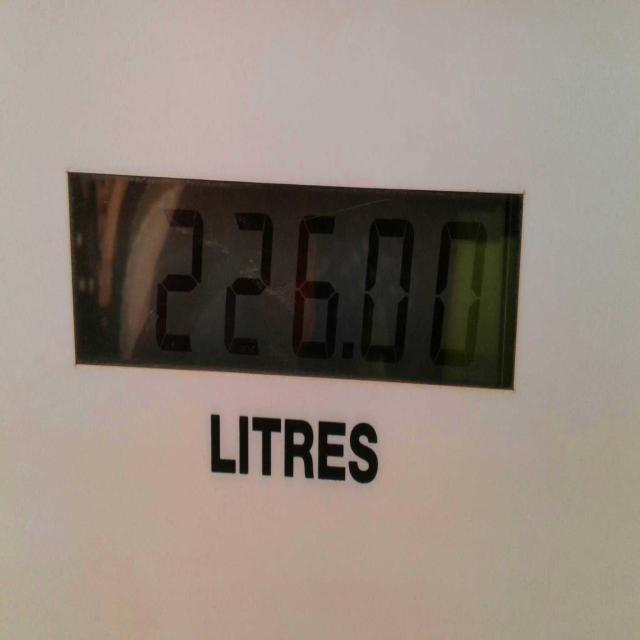.: (338, 332, 360, 372)
0: (421, 212, 495, 378), (355, 212, 416, 384)
2: (216, 194, 280, 372), (150, 197, 204, 364)
6: (286, 207, 341, 367)
